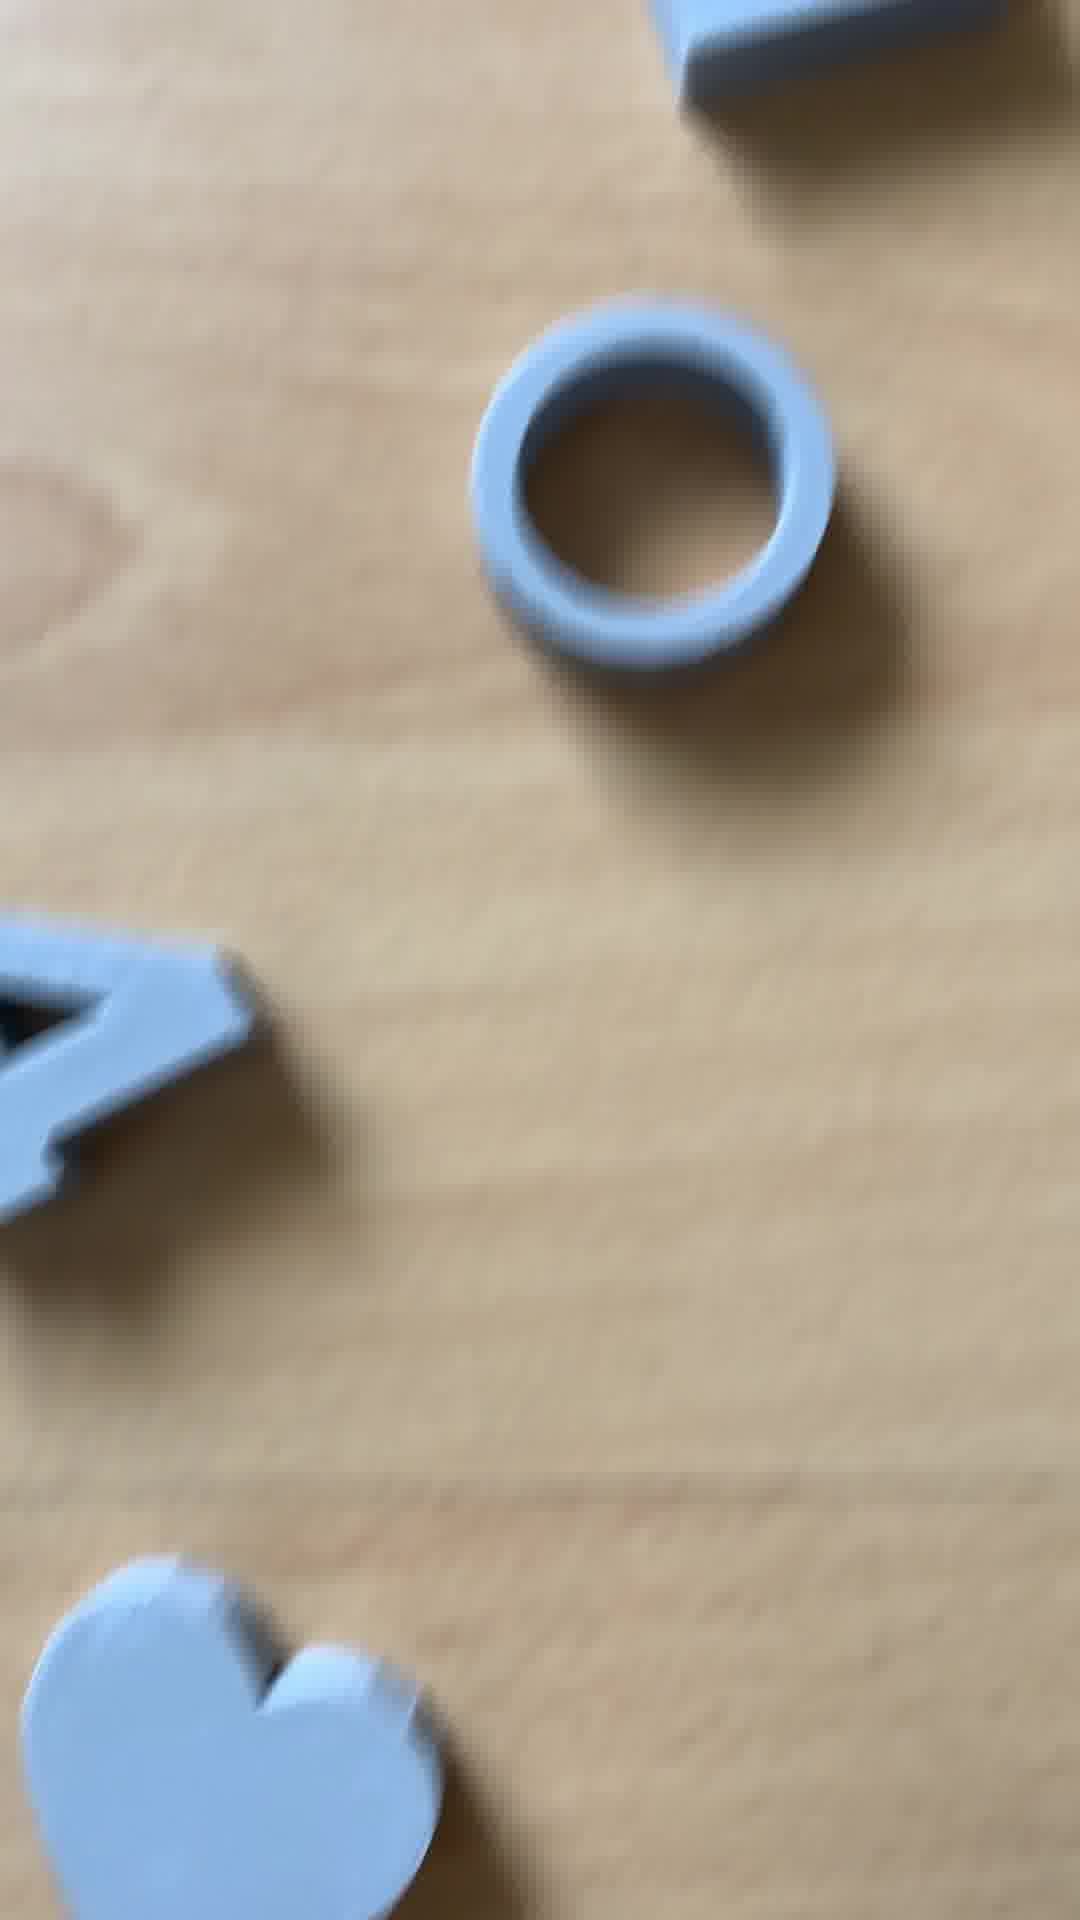Gray four: (1, 909, 258, 1230)
Gray heart: (26, 1557, 444, 1920)
Gray ring: (472, 274, 851, 698)
